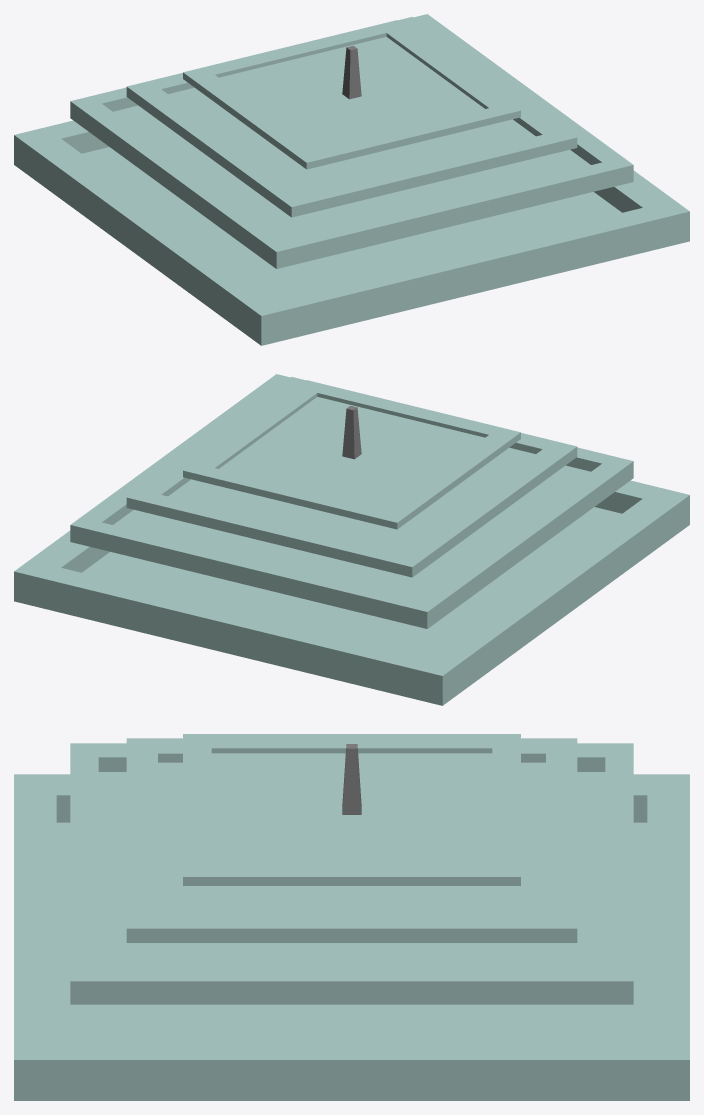
Rendered from Fountain.fbx.
The picture shows the model from 3 angles, top to bottom: view 1: azimuth 30°, elevation 25°; view 2: azimuth 150°, elevation 25°; view 3: azimuth 270°, elevation 25°; orthographic projection. The views are drawn at different scales.
Parts seen in each view (by area): view 1: Cube, Cube.002, Cube.004, Cube.003, Cube.005; view 2: Cube, Cube.002, Cube.004, Cube.003, Cube.005; view 3: Cube, Cube.002, Cube.004, Cube.003, Cube.005.
Part boxes in pixels (x1,y1,x2,y2): Cube: (14,120,689,345); Cube.002: (70,14,633,268); Cube.004: (183,20,520,169); Cube.003: (126,17,577,217); Cube.005: (342,45,361,99); Cube: (14,480,689,705); Cube.002: (70,374,633,628); Cube.004: (183,380,520,529); Cube.003: (126,377,577,577); Cube.005: (342,405,361,459); Cube: (14,774,689,1100); Cube.002: (70,743,633,1004); Cube.004: (183,734,520,885); Cube.003: (126,738,577,942); Cube.005: (342,744,361,814).
Bounding box in the file's own units: 1500 × 519 × 1500.
